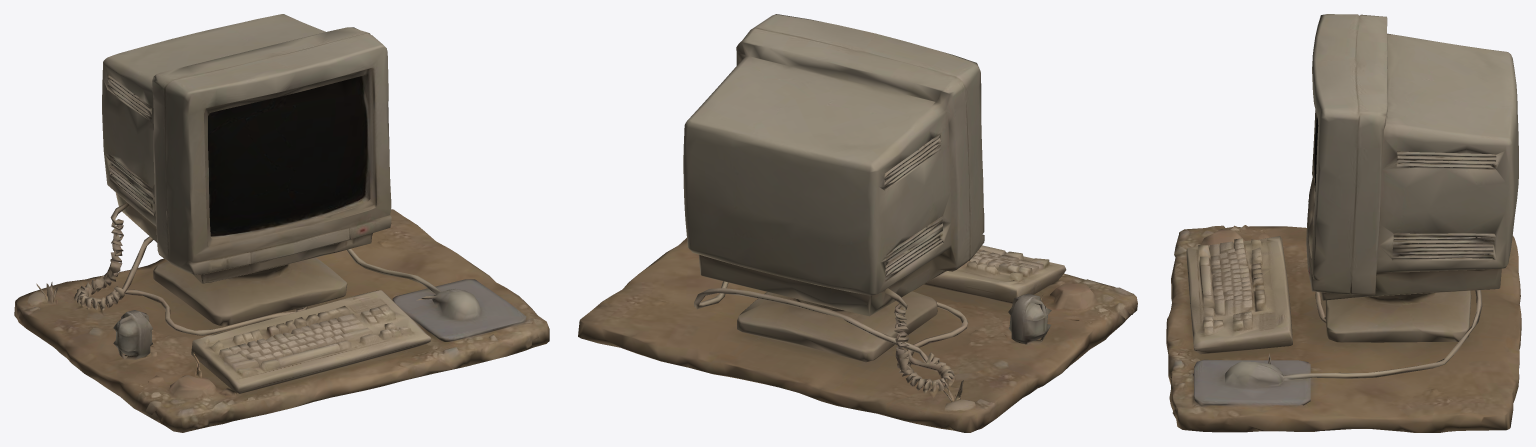
The model's file is office_monitor.glb.
3 renders of one model, left to right at view 1: azimuth 30°, elevation 25°; view 2: azimuth 150°, elevation 25°; view 3: azimuth 270°, elevation 25°, orthographic. The views are drawn at different scales.
Parts seen in each view (by area): view 1: tripo_node_6ac81f8e-ecaa-49a0-9bde-75461a8b082e; view 2: tripo_node_6ac81f8e-ecaa-49a0-9bde-75461a8b082e; view 3: tripo_node_6ac81f8e-ecaa-49a0-9bde-75461a8b082e.
Part boxes in pixels (bbox=[...]): tripo_node_6ac81f8e-ecaa-49a0-9bde-75461a8b082e: bbox=[14, 14, 549, 432]; tripo_node_6ac81f8e-ecaa-49a0-9bde-75461a8b082e: bbox=[578, 14, 1137, 432]; tripo_node_6ac81f8e-ecaa-49a0-9bde-75461a8b082e: bbox=[1166, 14, 1521, 432].
Bounding box in the file's own units: 1 × 0.6616 × 0.7699.
Materials: 1 (1 with a texture image).
